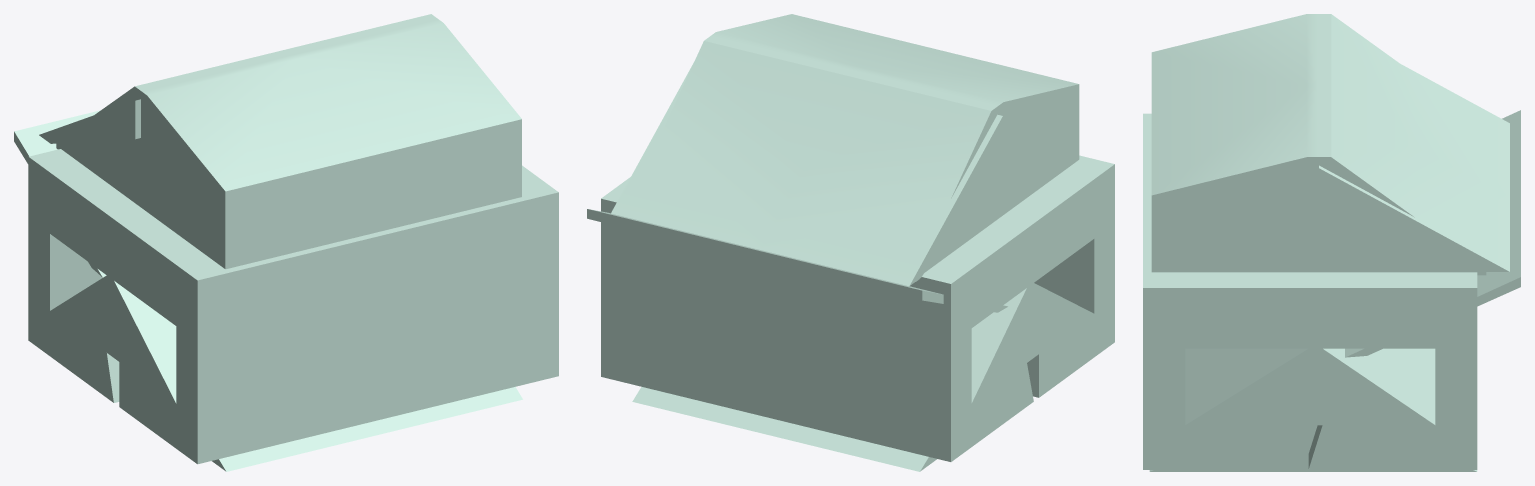
The picture shows the model from 3 angles, left to right: view 1: azimuth 30°, elevation 25°; view 2: azimuth 150°, elevation 25°; view 3: azimuth 270°, elevation 25°; orthographic projection. The views are drawn at different scales.
Parts seen in each view (by area): view 1: Renderer Node; view 2: Renderer Node; view 3: Renderer Node.
Part boxes in pixels (box(x1,y1,x2,y2)): Renderer Node: box(14, 14, 558, 471); Renderer Node: box(587, 14, 1114, 471); Renderer Node: box(1143, 14, 1520, 471).
Size of the model in its own units: 1.48 by 1.25 by 1.36.
